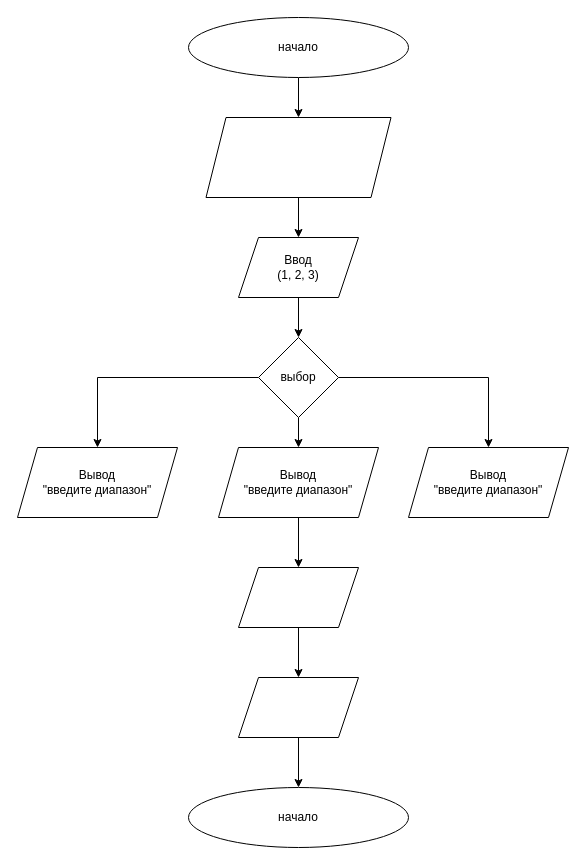
The diagram is 586 pixels wide and 865 high, and some of its shapes have lost their labels. The box of each missing label's shape, as (x1, y1, x2, y2) in pixels:
ввод диапазона: (238, 566, 358, 628)
Вывод Выбор генерации: 1 - целое 2 - вещественное 3 - буквы: (205, 116, 391, 198)
вывод генерации: (238, 676, 358, 738)
